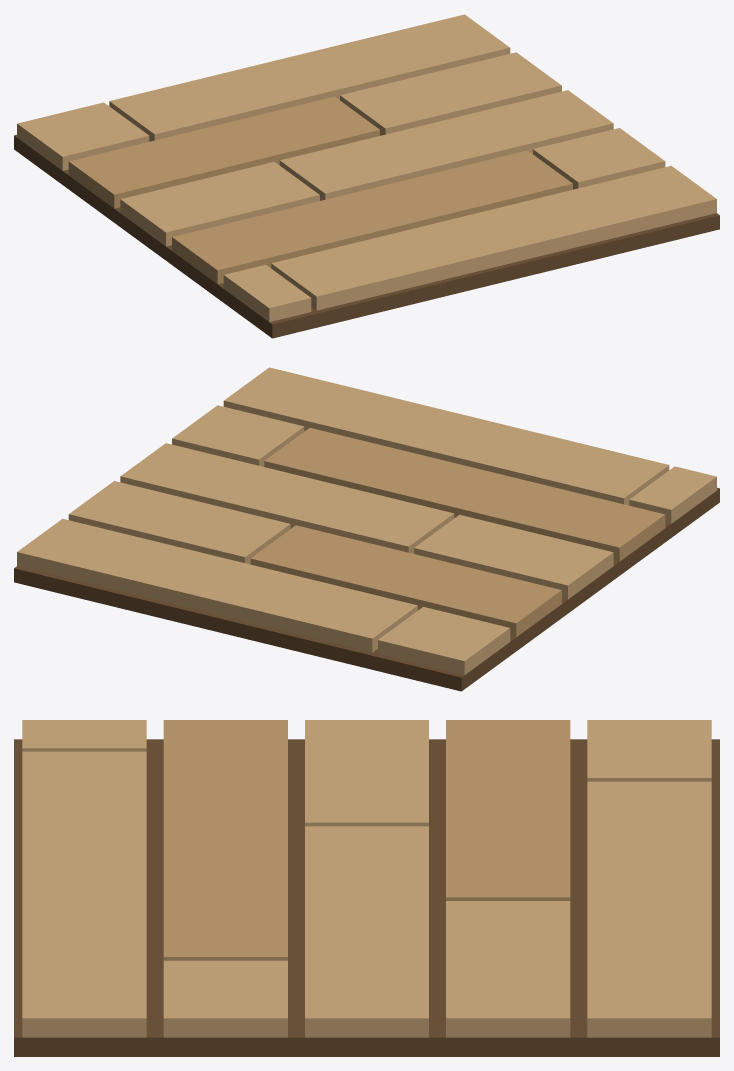
Rendered from boden_deck_b.glb.
3 views of the same model, one above another, from view 1: azimuth 30°, elevation 25°; view 2: azimuth 150°, elevation 25°; view 3: azimuth 270°, elevation 25° (orthographic). The views are drawn at different scales.
Visible parts, largest first — view 1: boden_deck_b; view 2: boden_deck_b; view 3: boden_deck_b.
Boxes of the visible parts, x1=… form: boden_deck_b: x1=14, y1=14, x2=719, y2=338; boden_deck_b: x1=14, y1=367, x2=719, y2=691; boden_deck_b: x1=14, y1=720, x2=719, y2=1056.
Size of the model in its own units: 1 by 0.06 by 1.
